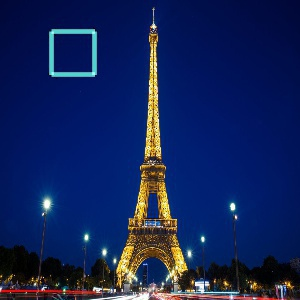square: (47, 27, 99, 80)
